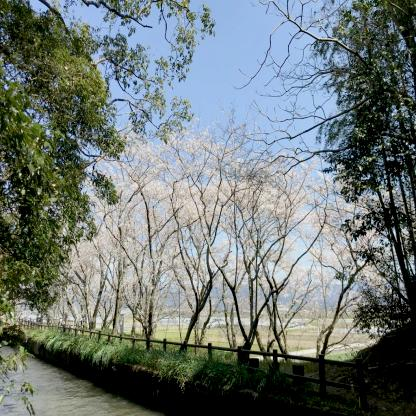Someiyoshino: (112, 130, 318, 315), (320, 178, 368, 276), (57, 235, 109, 302)
